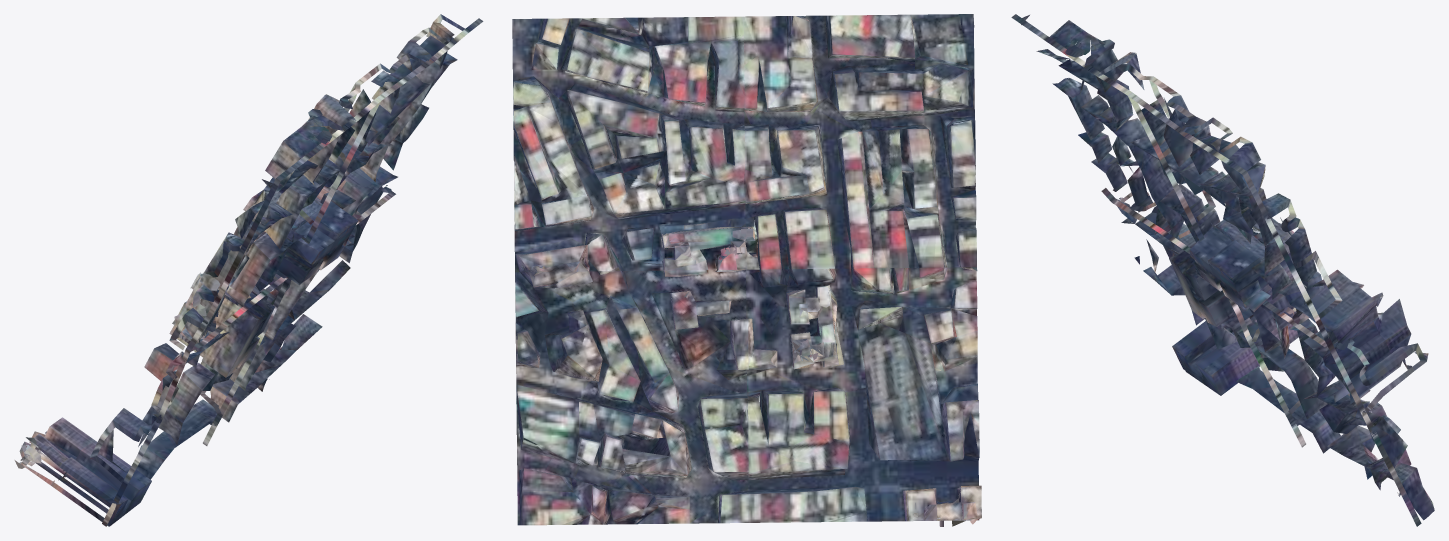
The picture shows the model from 3 angles, left to right: view 1: azimuth 30°, elevation 25°; view 2: azimuth 150°, elevation 25°; view 3: azimuth 270°, elevation 25°; orthographic projection. The views are drawn at different scales.
Size of the model in its own units: 339 by 288 by 267.
2 materials, 2 textured.
